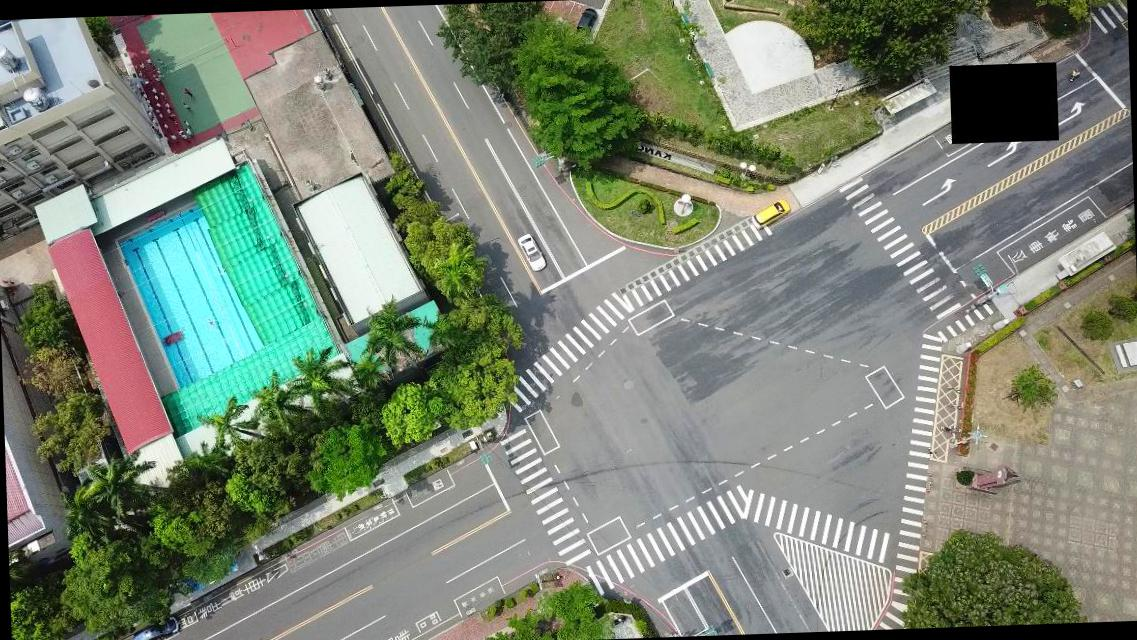vehicle: (132, 613, 181, 639), (751, 198, 792, 228), (517, 233, 545, 272)
